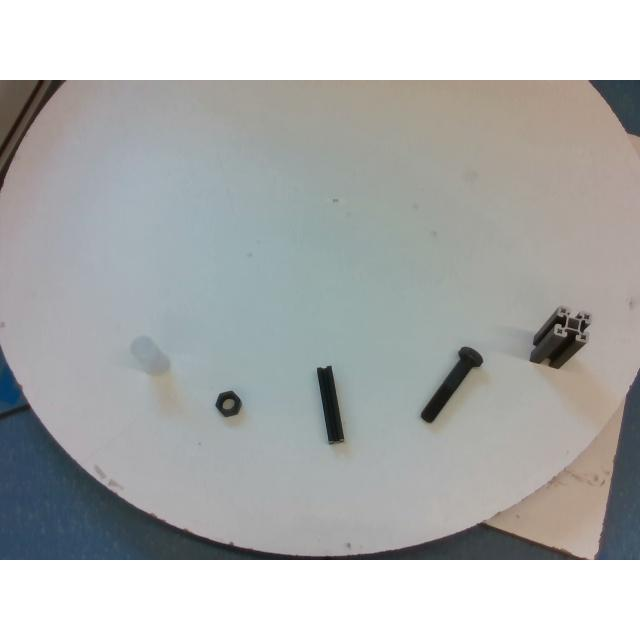F20_20_B: (316, 365, 344, 443)
M20: (215, 390, 241, 416)
M20_100: (422, 346, 482, 422)
S40_40_B: (530, 306, 590, 368)
Spacer: (130, 334, 170, 374)
